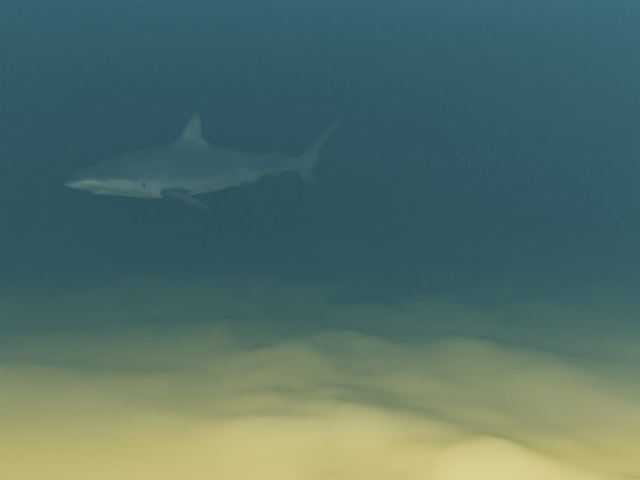Carribean Shark.001: (63, 110, 349, 209)
